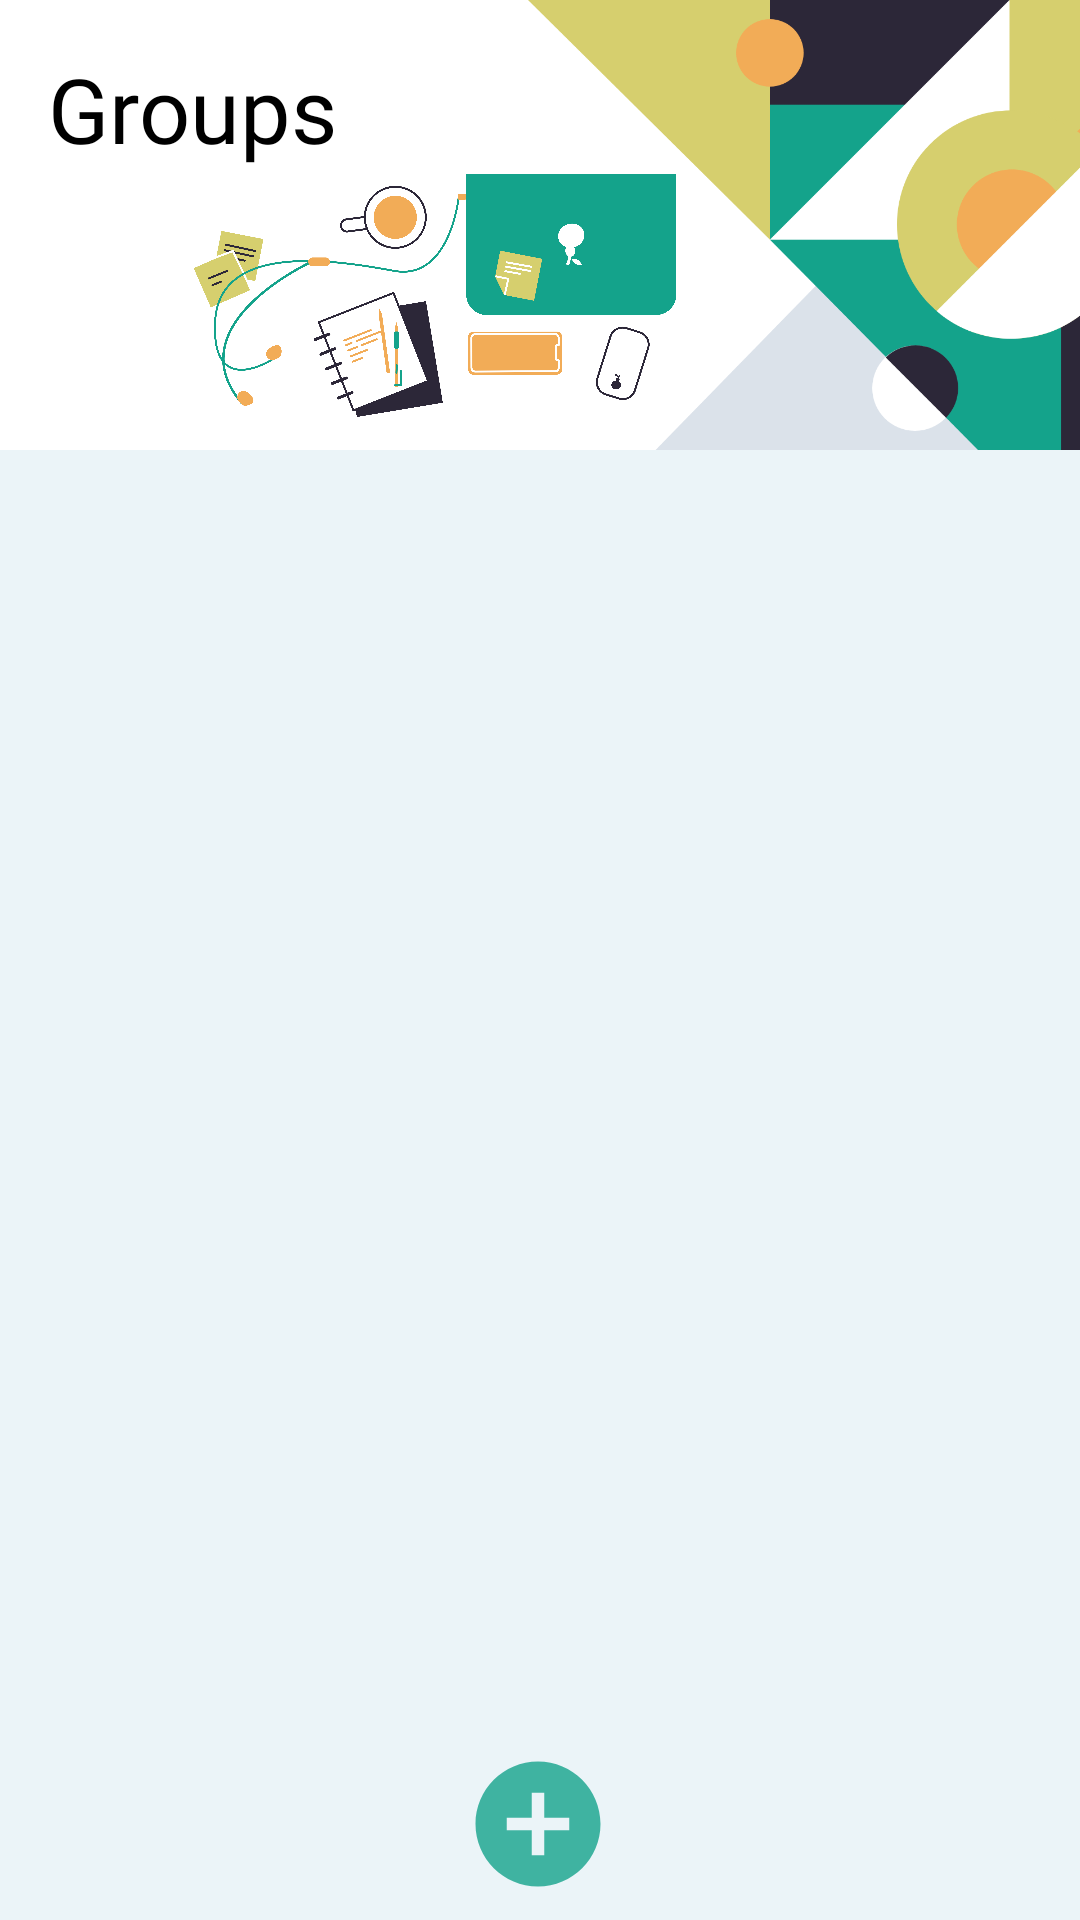

Screen size 1080×1920. Icon name, then its center in pixels as [x,y]:
add: [538,1824]
